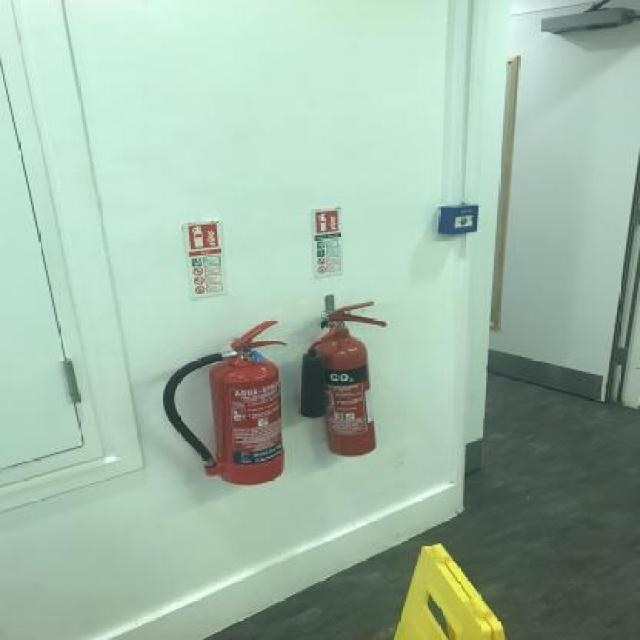fire extinguisher: (161, 321, 287, 487), (302, 302, 383, 458)
